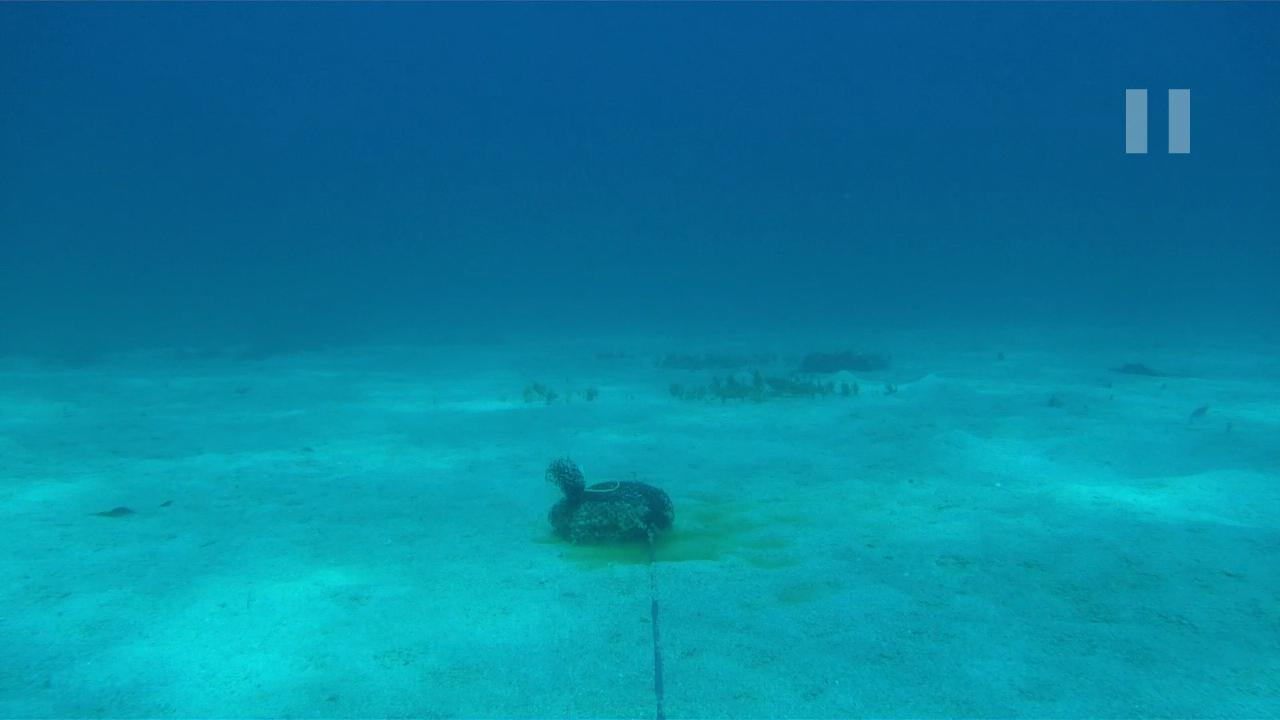bothus: (83, 489, 173, 524)
